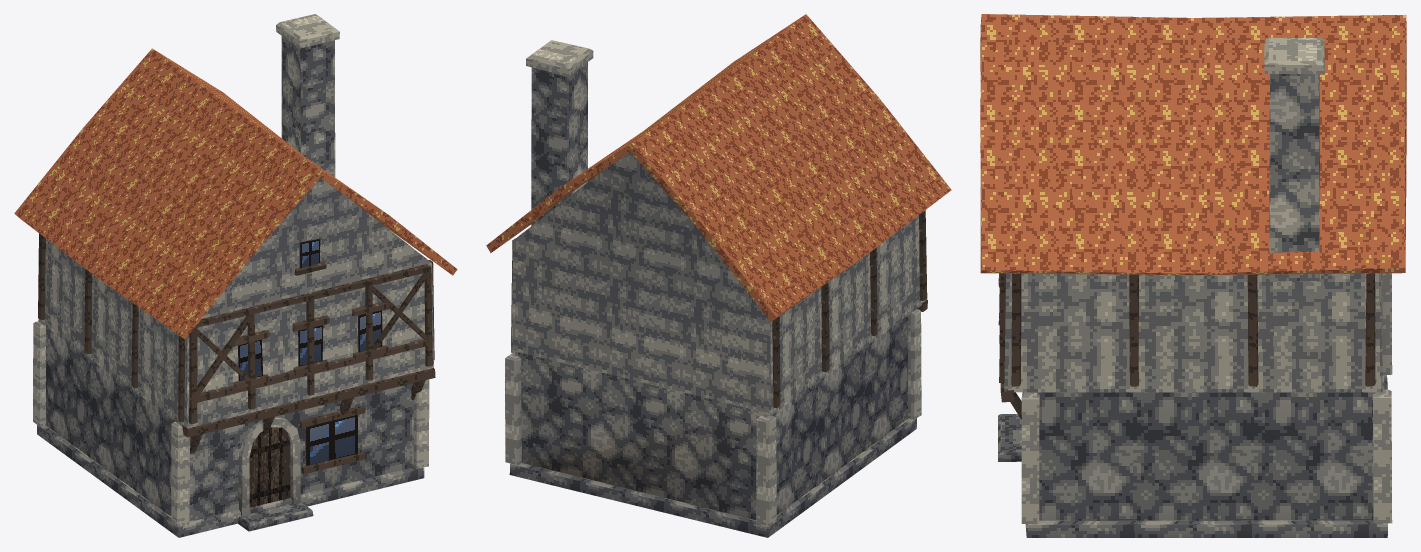
Rendered from vlg.cottage__townhouse.glb.
The picture shows the model from 3 angles, left to right: view 1: azimuth 30°, elevation 25°; view 2: azimuth 150°, elevation 25°; view 3: azimuth 270°, elevation 25°; orthographic projection. The views are drawn at different scales.
Parts seen in each view (by area): view 1: kit_walls, kit_roof, kit_frame, kit_fittings, kit_stonework; view 2: kit_walls, kit_roof, kit_stonework, kit_frame; view 3: kit_roof, kit_walls, kit_stonework, kit_frame, kit_fittings.
Part boxes in pixels (x1=…): kit_walls: x1=38, y1=178, x2=433, y2=521; kit_roof: x1=14, y1=48, x2=457, y2=338; kit_frame: x1=33, y1=233, x2=435, y2=526; kit_fittings: x1=233, y1=238, x2=389, y2=531; kit_stonework: x1=37, y1=14, x2=424, y2=537; kit_walls: x1=511, y1=152, x2=926, y2=520; kit_roof: x1=486, y1=14, x2=951, y2=321; kit_stonework: x1=509, y1=40, x2=916, y2=537; kit_frame: x1=505, y1=210, x2=927, y2=526; kit_roof: x1=980, y1=14, x2=1406, y2=275; kit_walls: x1=1004, y1=273, x2=1382, y2=520; kit_stonework: x1=1025, y1=38, x2=1387, y2=537; kit_frame: x1=999, y1=273, x2=1392, y2=524; kit_fittings: x1=998, y1=273, x2=1021, y2=461.
Bounding box in the file's own units: 6.97 × 9.07 × 7.28.
Materials: 8 (8 with a texture image).
